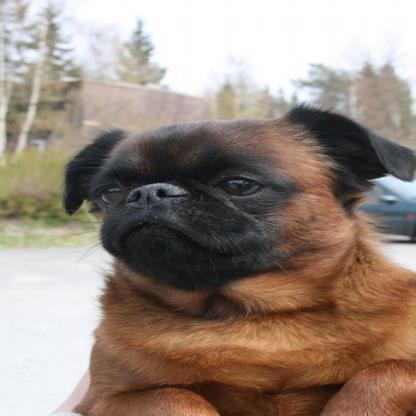Brabancon_griffon: (62, 102, 414, 414)
